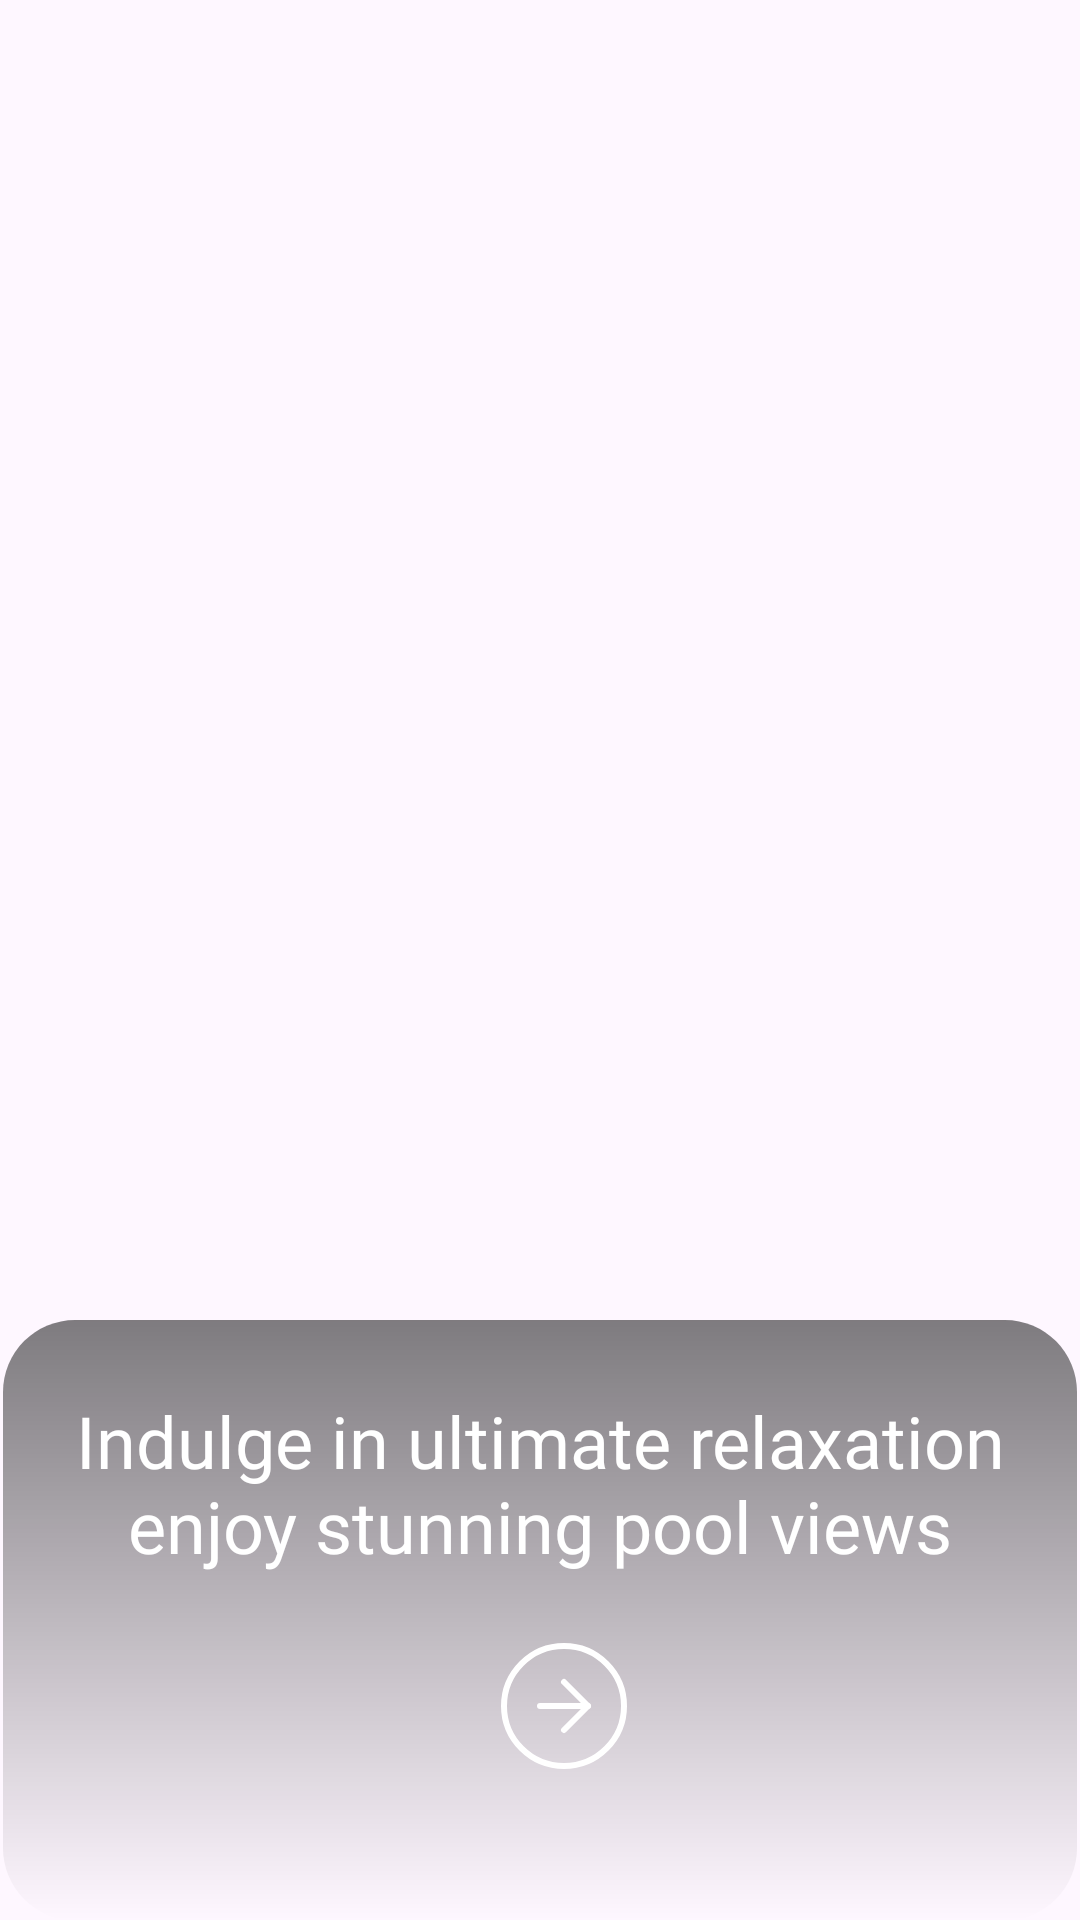

Icons on this 1080px x 1920px Android screen, each with the point to tap as point (x, y):
arrow right circle: point (564, 1710)
